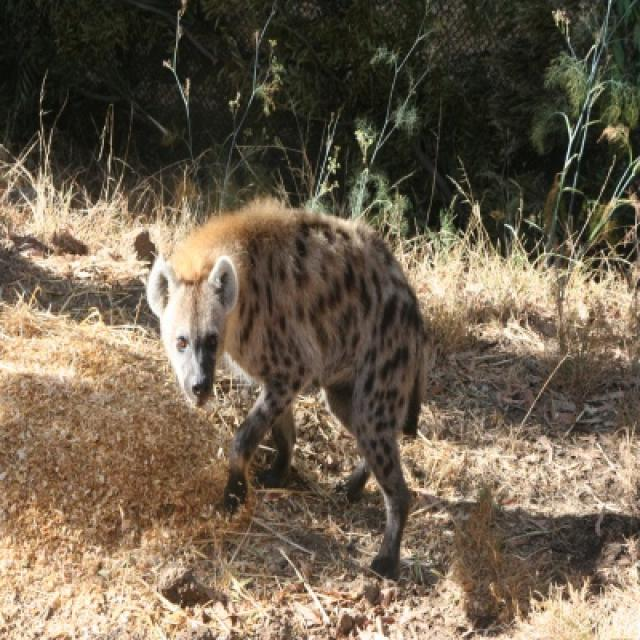hyena: (136, 200, 426, 578)
